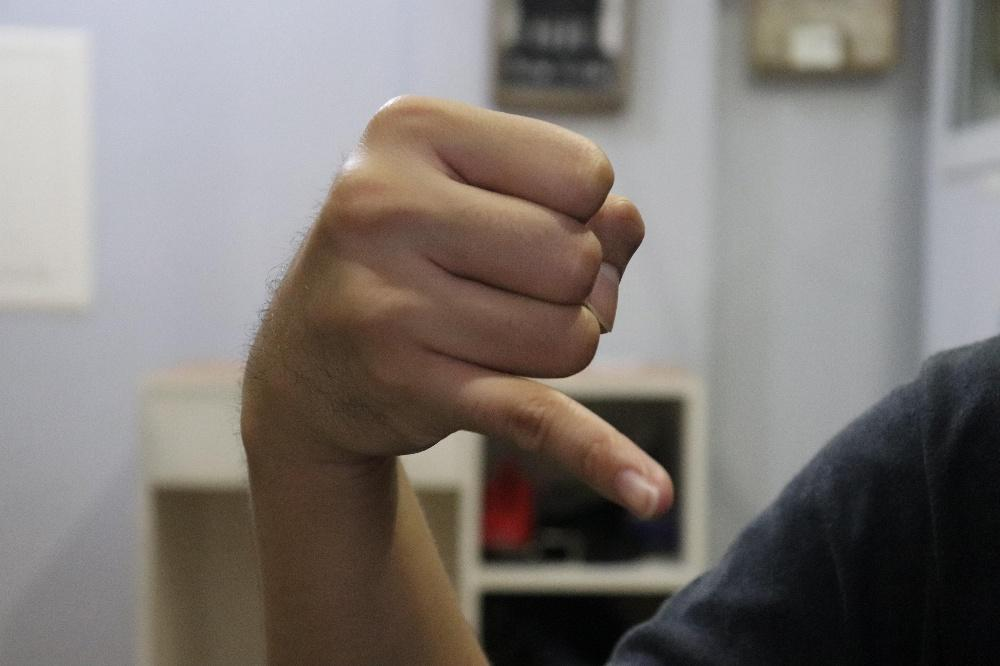j: (240, 91, 675, 522)
